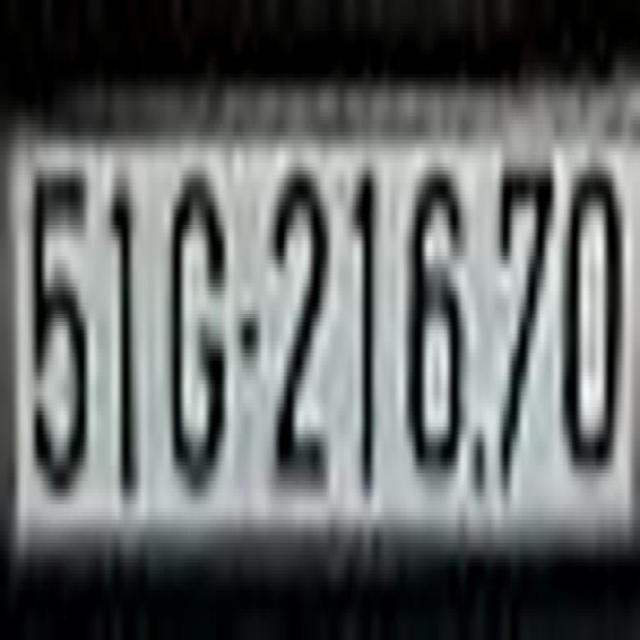0: (568, 155, 618, 469)
1: (106, 163, 139, 496), (349, 144, 376, 492)
2: (272, 175, 329, 473)
5: (31, 151, 90, 473)
6: (407, 159, 462, 493)
7: (500, 159, 554, 493)
G: (172, 170, 231, 492)
